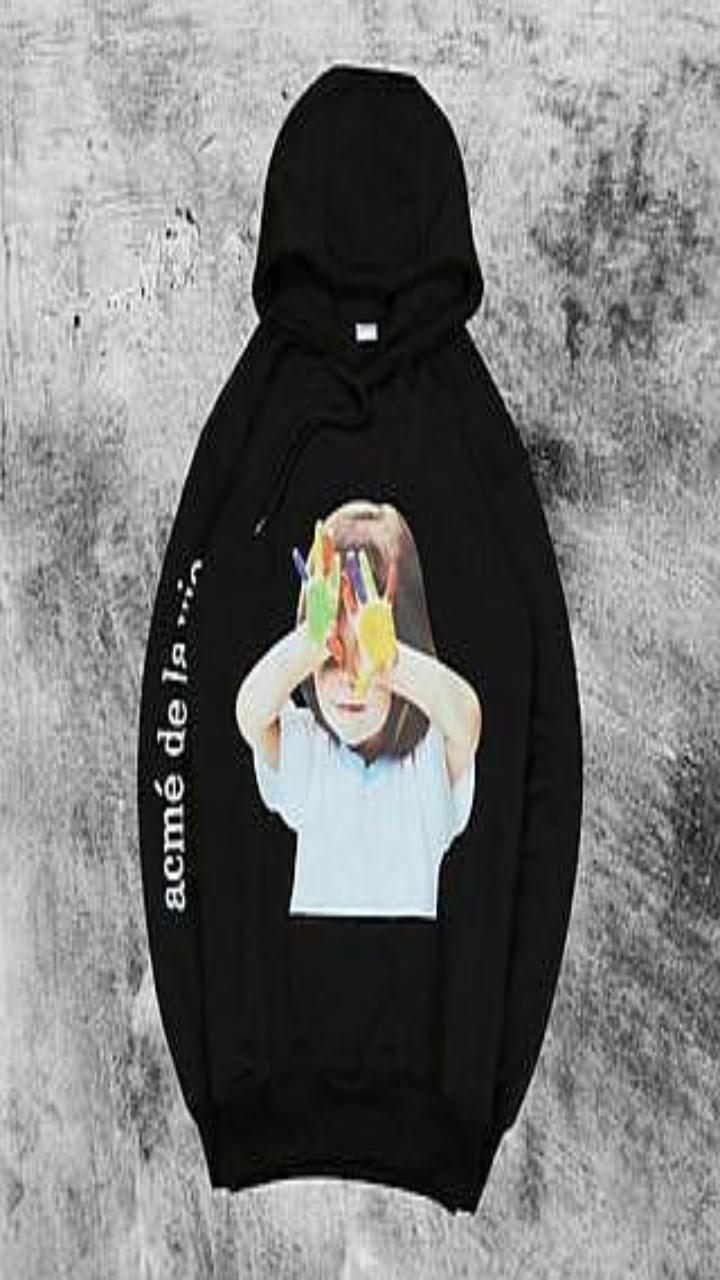Hoodie: (138, 66, 581, 1210)
T-Shirt: (254, 699, 474, 916)
